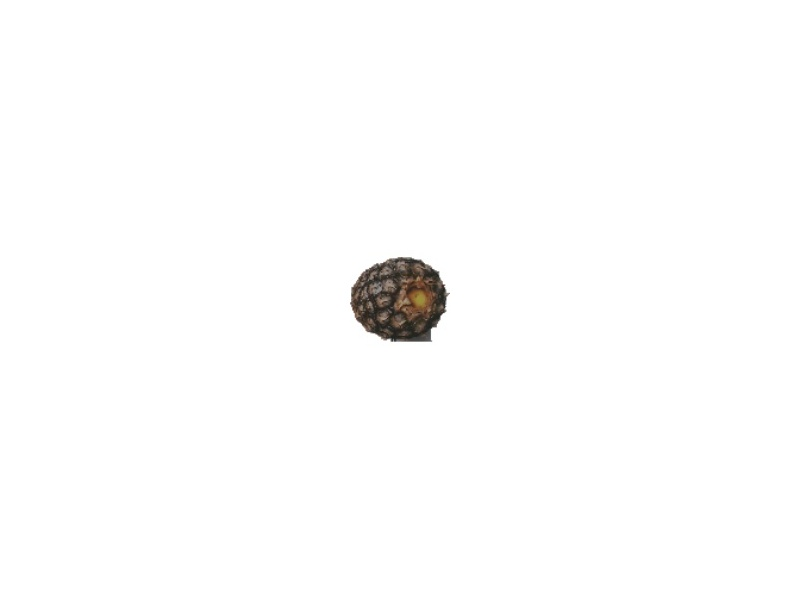abacaxi: (350, 254, 451, 346)
